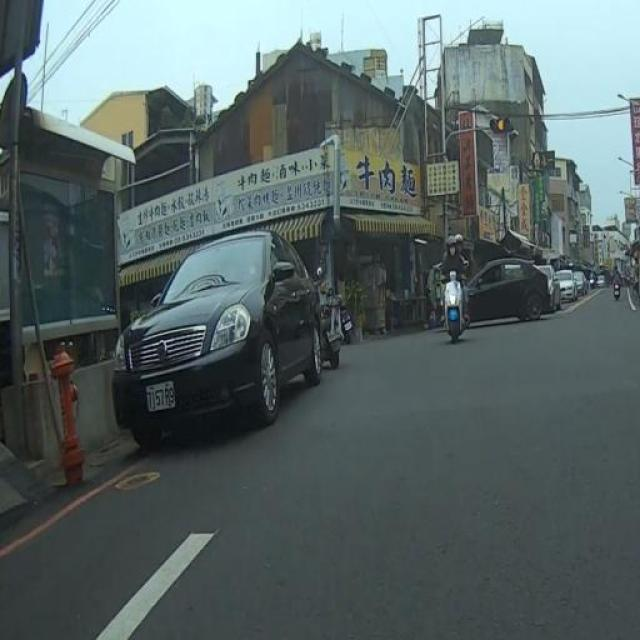Legalparking: (550, 271, 588, 302)
illegalparking: (112, 230, 321, 449), (444, 258, 546, 341)
